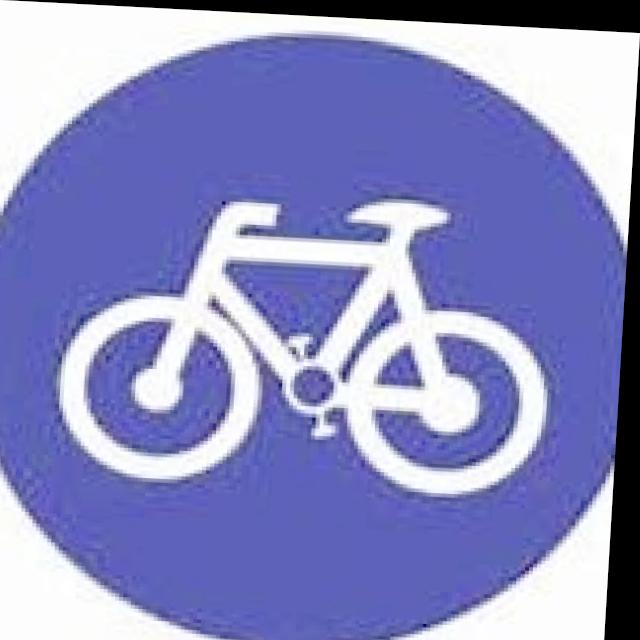COMPULSARY_CYCLE_TRACK: (0, 29, 639, 640)
